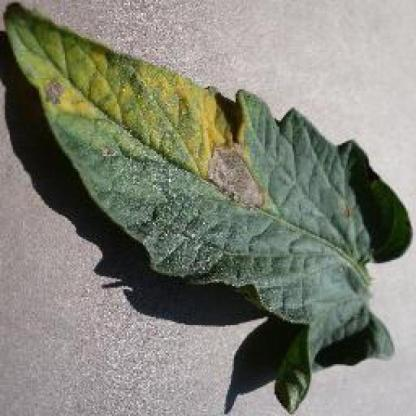Tomato_Blight: (6, 3, 408, 388)
